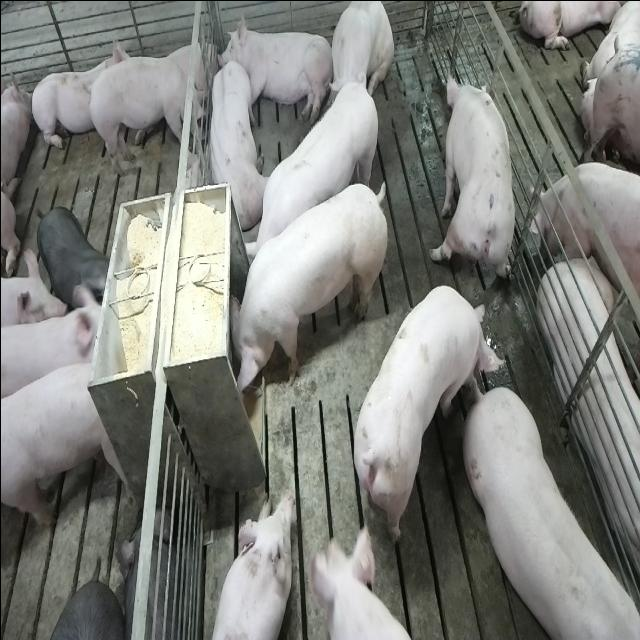Feeding: (220, 174, 384, 402)
Lateral_lying: (538, 232, 640, 595), (215, 14, 334, 128)
Sitting: (204, 57, 265, 225), (325, 0, 393, 114)
Standing: (465, 383, 640, 640), (356, 286, 506, 546), (246, 77, 382, 279), (2, 358, 134, 536), (430, 69, 516, 292), (85, 51, 211, 181), (533, 159, 640, 301), (3, 287, 108, 409)
Sternal_lying: (209, 487, 293, 640), (30, 30, 127, 154)
